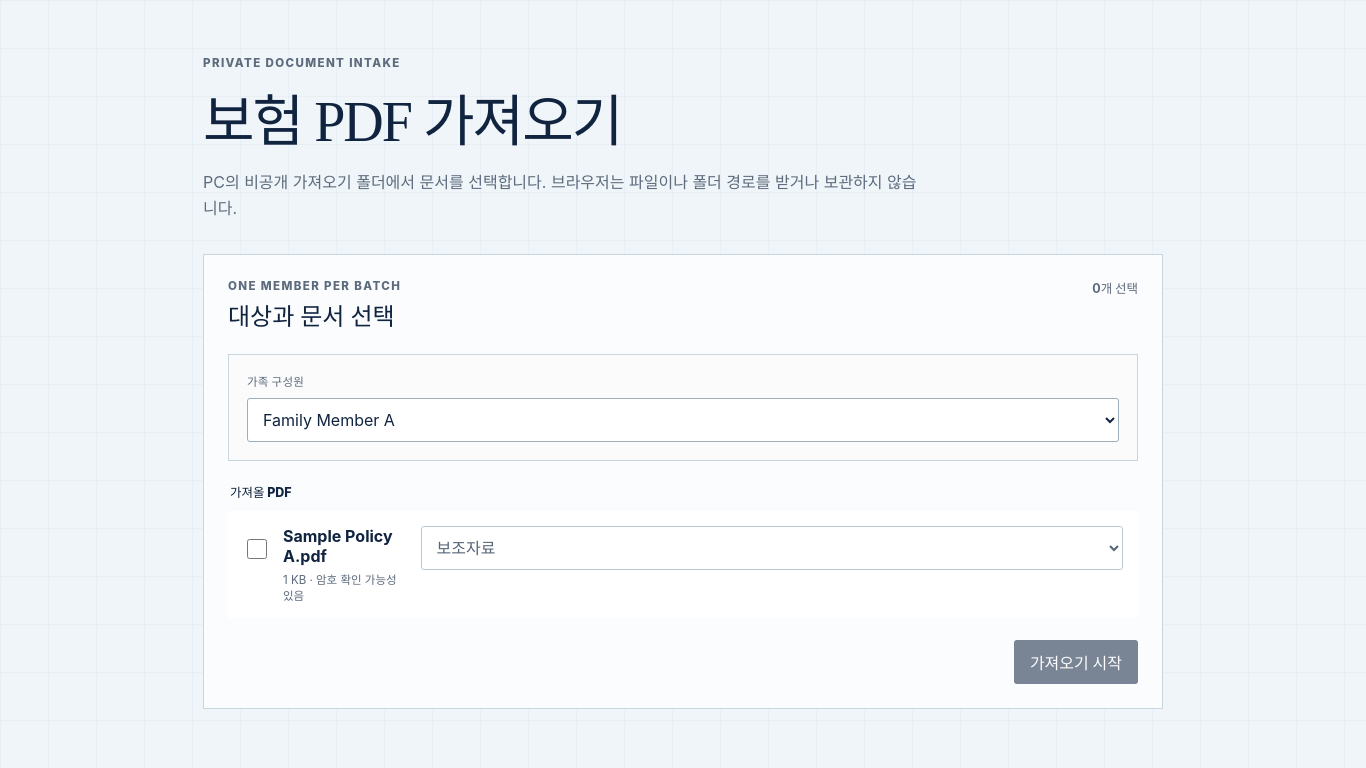
document import page › selects one member and opaque sources without upload or path controls
This screenshot has width=1366, height=768.
Check: the text "Sample Policy A.pdf" is shown, box [283,526,408,566]
Check: the dropdown labelled "가족 구성원" shows "Family Member A", box [247,398,1119,442]
Step 1. Click the checkbox labelled "Sample Policy A.pdf 1 KB · 암호 확인 가능성 있음" → [257, 549], box [247,527,267,571]
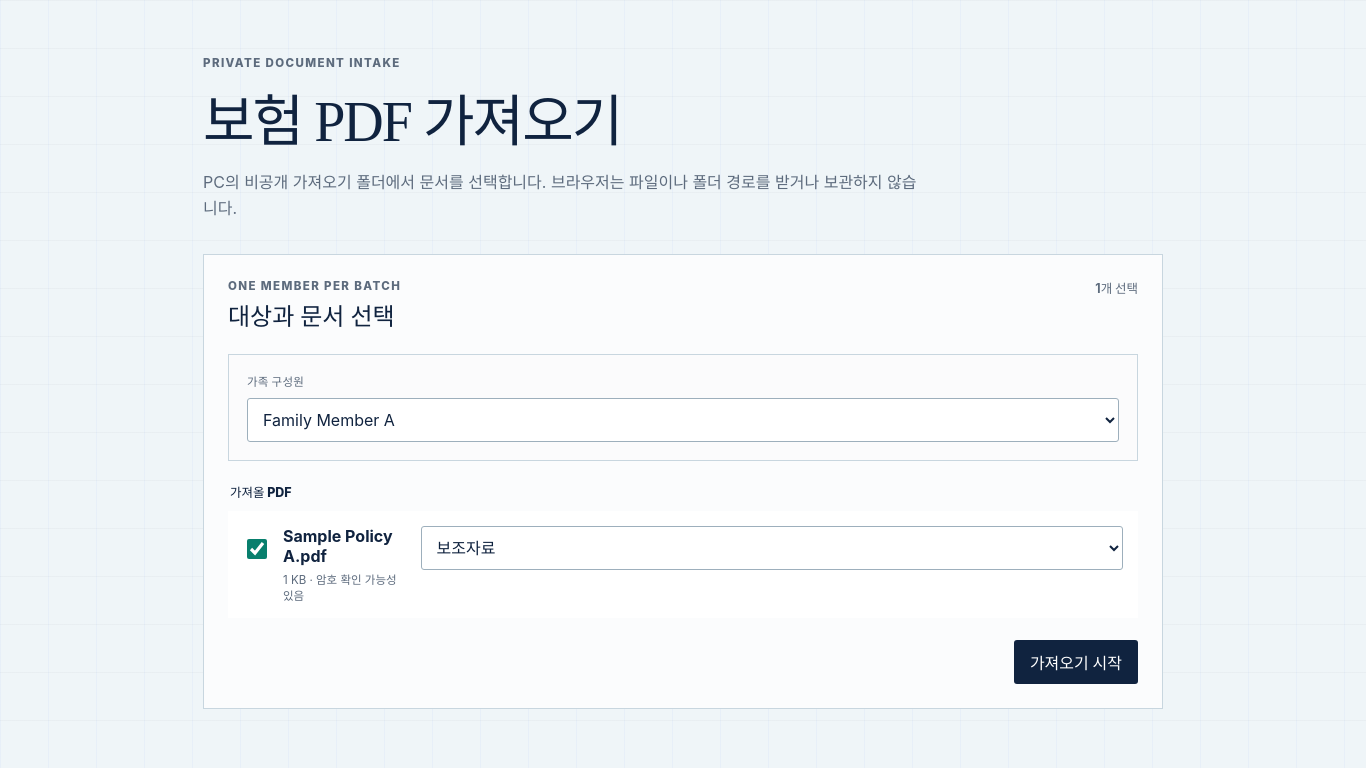
Check: the button "가져오기 시작" is enabled, box [1014,640,1138,684]
